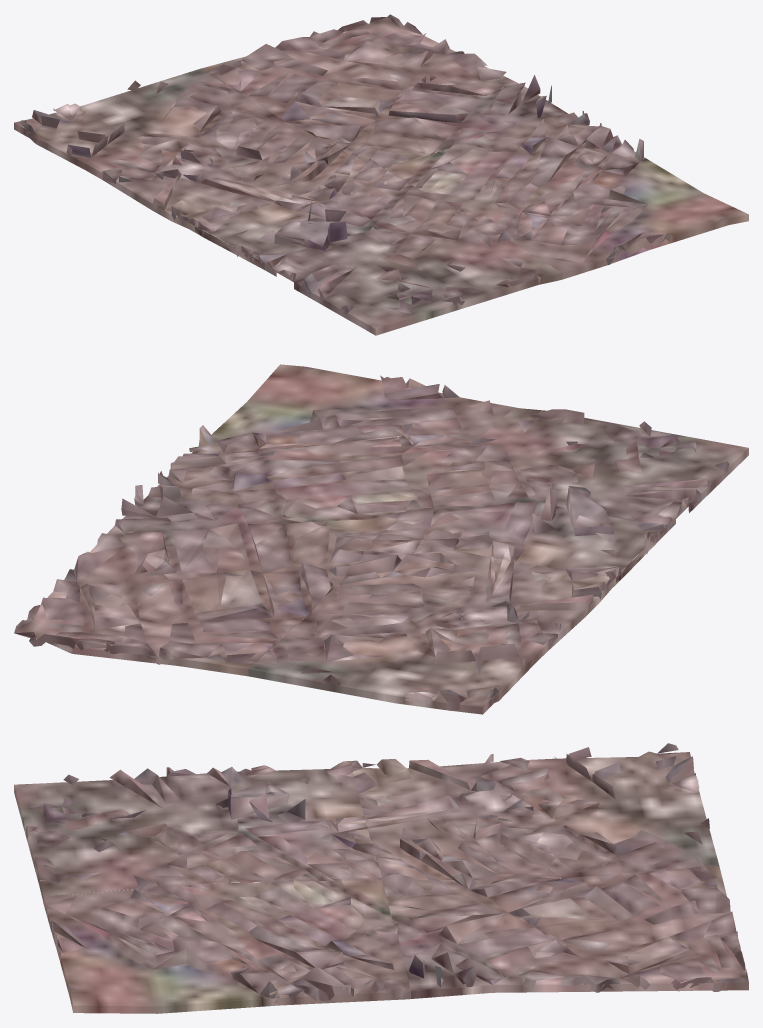
The picture shows the model from 3 angles, top to bottom: view 1: azimuth 30°, elevation 25°; view 2: azimuth 150°, elevation 25°; view 3: azimuth 270°, elevation 25°; orthographic projection. The views are drawn at different scales.
Parts seen in each view (by area): view 1: Mesh_0; view 2: Mesh_0; view 3: Mesh_0.
Boxes of the visible parts, left/top/right/bottom form: Mesh_0: left=14, top=14, right=748, bottom=335; Mesh_0: left=14, top=364, right=748, bottom=714; Mesh_0: left=14, top=743, right=748, bottom=1013.
Bounding box in the file's own units: 1065 × 94.16 × 1318.
1 material, 1 textured.
